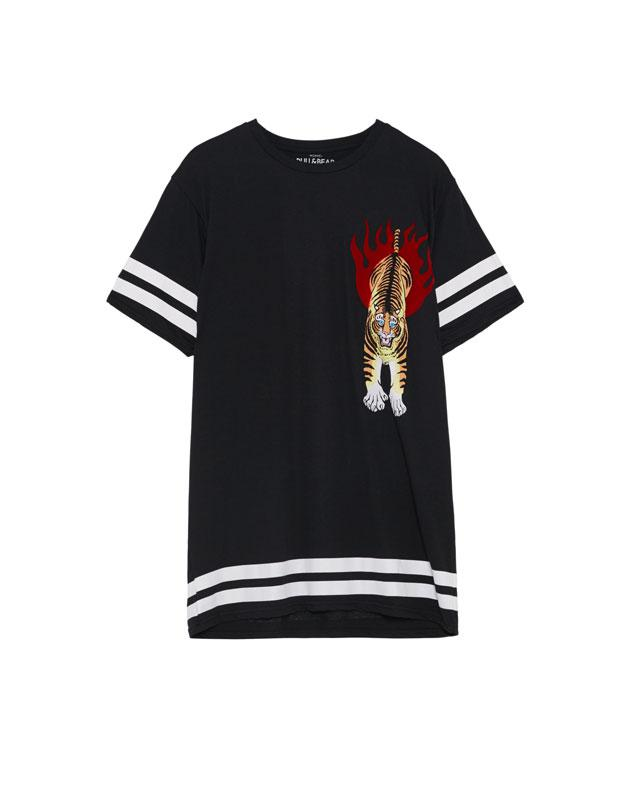teeshirt: (105, 98, 557, 695)
